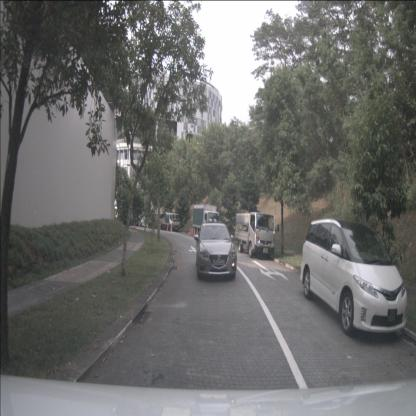cone: (195, 228, 199, 237), (191, 228, 194, 237), (193, 228, 196, 237), (170, 225, 173, 232), (166, 225, 169, 231), (190, 228, 192, 236), (147, 222, 149, 229), (138, 221, 140, 227), (159, 224, 161, 230)
